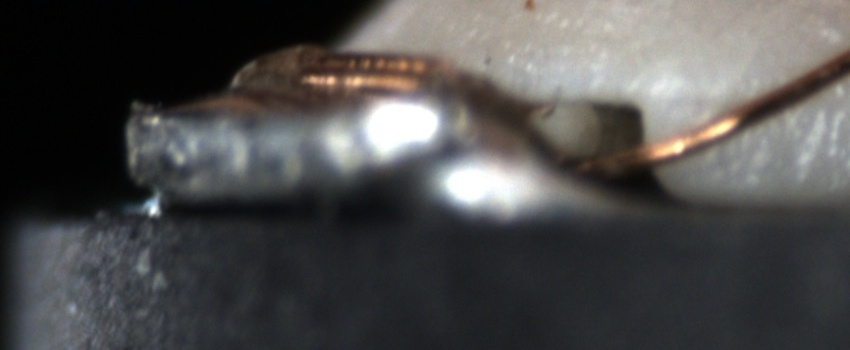DL: (669, 82, 849, 123)
TE: (251, 44, 452, 94)
